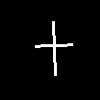single_crochet: (35, 21, 72, 75)
